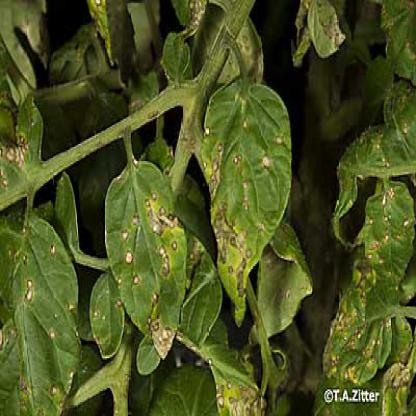tomato septoria leaf spot: (205, 78, 300, 335), (98, 161, 194, 360), (1, 194, 84, 414), (362, 174, 415, 294), (194, 335, 272, 413), (297, 3, 353, 67)
